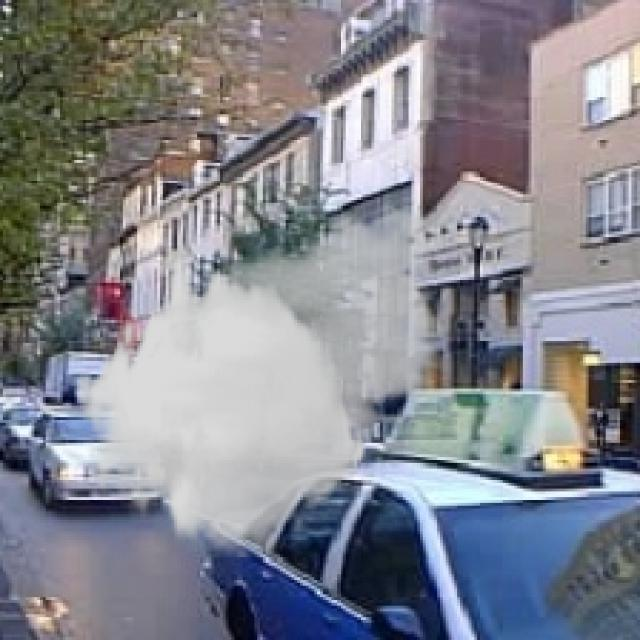Smoke: (74, 188, 454, 558)
